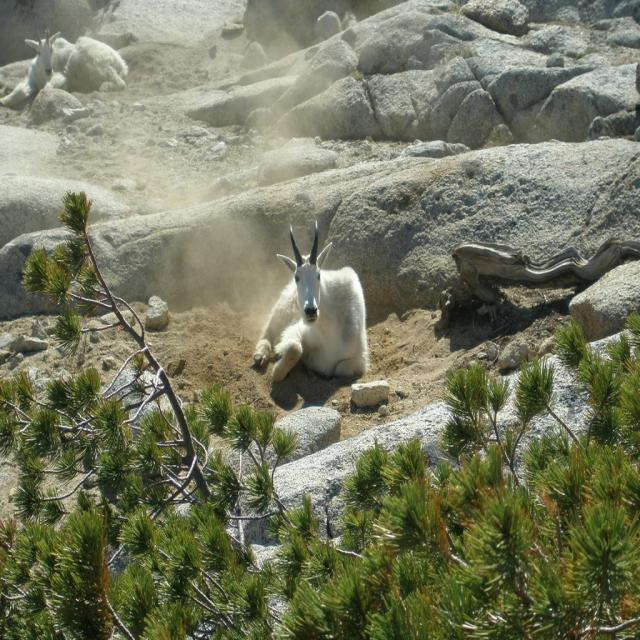Goat: (254, 220, 370, 382), (0, 25, 128, 103)
